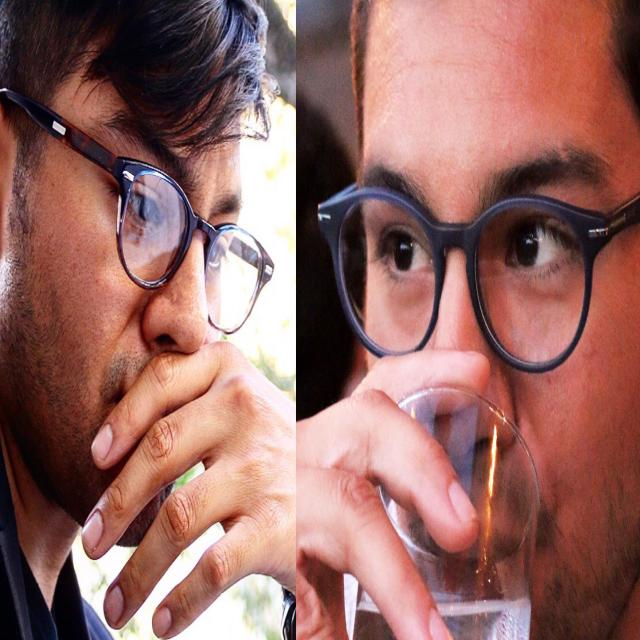Glasses: (316, 176, 640, 380), (33, 98, 277, 342)
